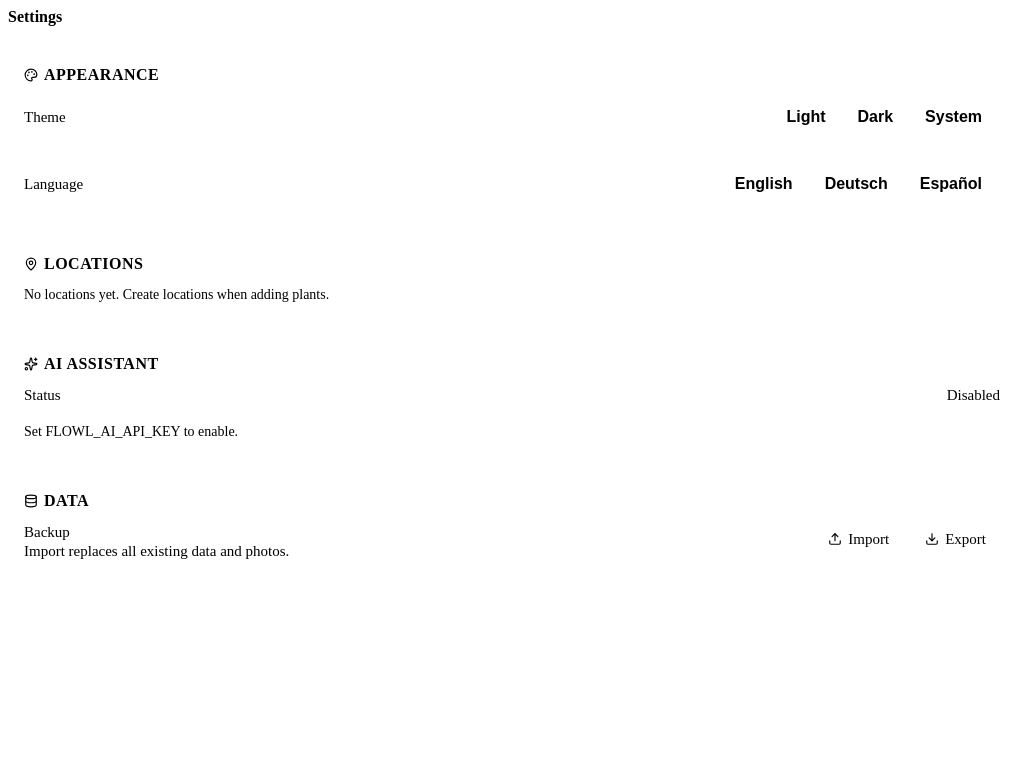
Test: settings language selector › reactively updates UI text when language changes
Expected: the heading "Appearance" is shown, [24,66,159,83]
Click the button "Deutsch". click: (856, 184)
box: [811,169,902,199]
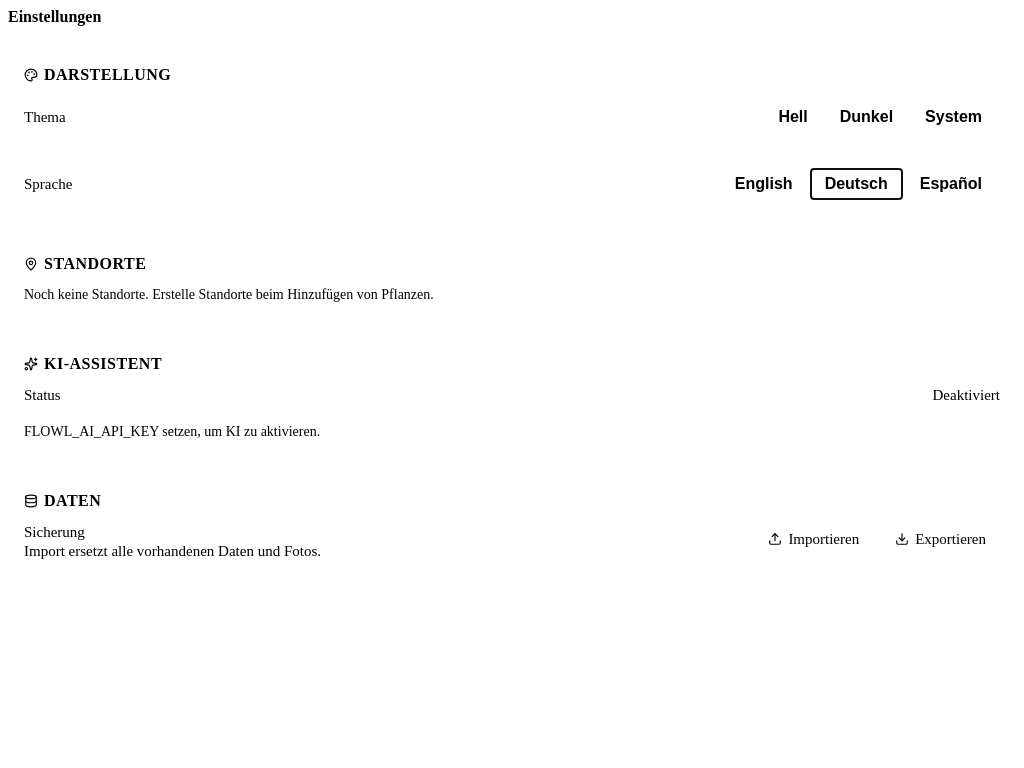
Expected: the heading "Darstellung" is shown, [24,66,171,83]
